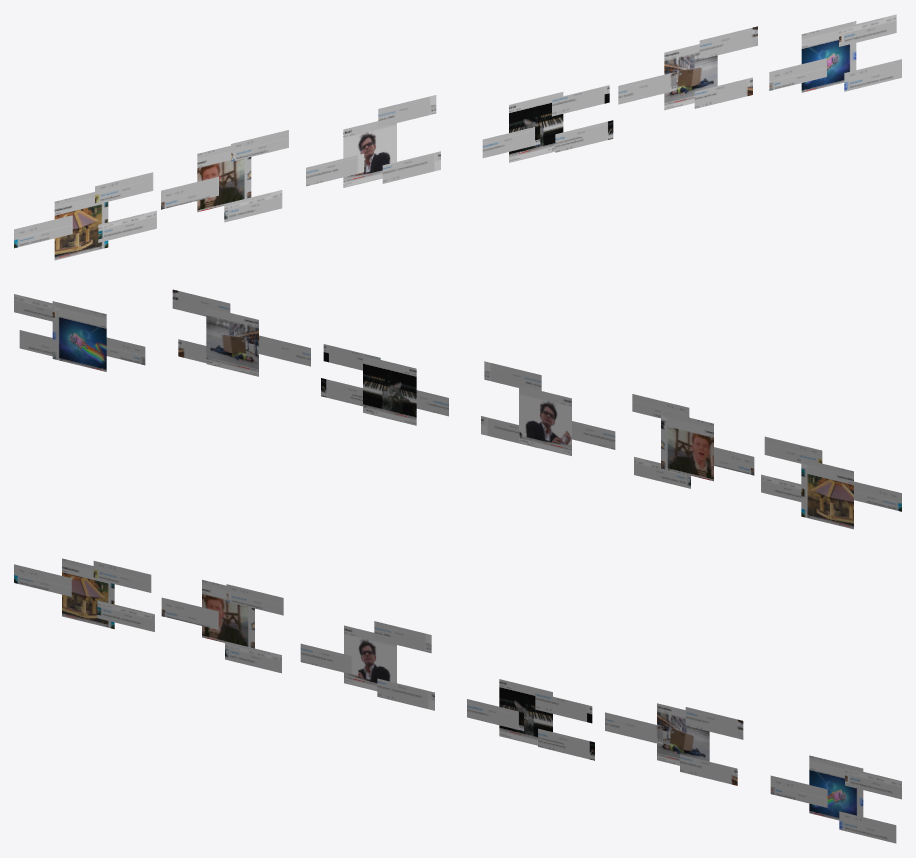
Rendered from m_meviewTile.FBX.
The picture shows the model from 3 angles, top to bottom: view 1: azimuth 30°, elevation 25°; view 2: azimuth 150°, elevation 25°; view 3: azimuth 330°, elevation 25°; orthographic projection.
Visible parts, largest first — view 1: birdhouse vid, sheenvid, rickvid, neoncatvid, failvid, pianocatvid, failcommentsleeze, neutralcomentbird, failcommentneut, neutralcatcoment, sheencomment2, ricktrollcomment (+12 smaller); view 2: neoncatvid, pianocatvid, birdhouse vid, sheenvid, rickvid, failvid, sheencomment3, sleazecommentbird, failcommentneut, rickneutral, neutralcomentbird, failcommentsleeze (+12 smaller); view 3: sheenvid, birdhouse vid, neoncatvid, rickvid, failvid, pianocatvid, failcommentsleeze, sheencomment2, ricktrollcomment, sleazecommentbird, neutralcomentbird, neoncatcomment1 (+12 smaller).
Part boxes in pixels (x1,y1,x2,y2): birdhouse vid: (54, 192, 108, 260); sheenvid: (343, 121, 396, 187); rickvid: (197, 145, 251, 212); neoncatvid: (801, 21, 856, 92); failvid: (664, 44, 717, 110); pianocatvid: (509, 92, 563, 162); failcommentsleeze: (699, 26, 757, 59); neutralcomentbird: (14, 215, 72, 248); failcommentneut: (618, 72, 676, 104); neutralcatcoment: (482, 125, 540, 157); sheencomment2: (306, 153, 364, 186); ricktrollcomment: (161, 176, 218, 209); neoncatvid: (52, 301, 106, 371); pianocatvid: (363, 355, 416, 425); birdhouse vid: (801, 458, 853, 529); sheenvid: (519, 385, 571, 455); rickvid: (661, 411, 713, 481); failvid: (206, 307, 258, 376); sheencomment3: (484, 361, 541, 390); sleazecommentbird: (764, 436, 822, 463); failcommentneut: (259, 335, 310, 366); rickneutral: (634, 457, 690, 488); neutralcomentbird: (854, 481, 901, 511); failcommentsleeze: (172, 289, 230, 316); sheenvid: (344, 625, 396, 691); birdhouse vid: (62, 558, 114, 629); neoncatvid: (809, 755, 863, 820); rickvid: (202, 579, 254, 648); failvid: (657, 703, 709, 765); pianocatvid: (499, 679, 552, 745); failcommentsleeze: (685, 707, 743, 739); sheencomment2: (300, 643, 358, 675); ricktrollcomment: (161, 597, 218, 629); sleazecommentbird: (93, 561, 151, 592); neutralcomentbird: (14, 564, 71, 596); neoncatcomment1: (770, 775, 827, 807).
Size of the model in its own units: 1010 by 110 by 28.47.
Materials: 3 (3 with a texture image).
